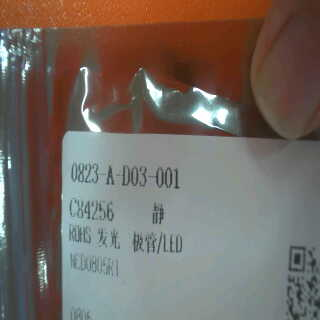LED: (97, 223, 187, 257)
